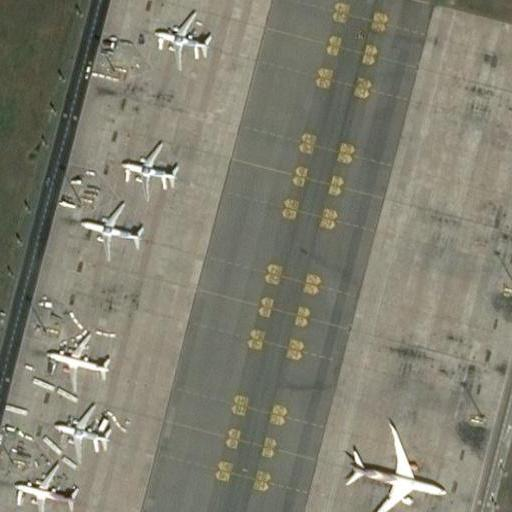Aircraft: (328, 413, 447, 512), (37, 323, 109, 395), (71, 195, 147, 261), (149, 3, 221, 65), (115, 134, 185, 197), (47, 397, 113, 463), (8, 455, 84, 512)
